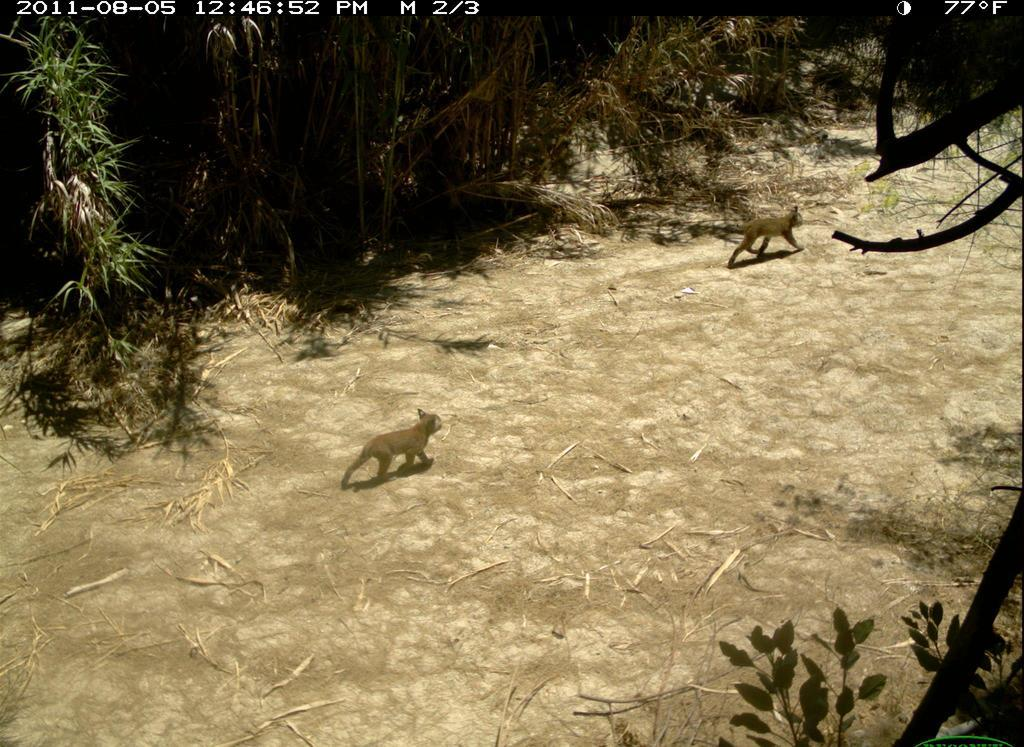bobcat: (337, 405, 454, 510), (713, 203, 816, 278)
